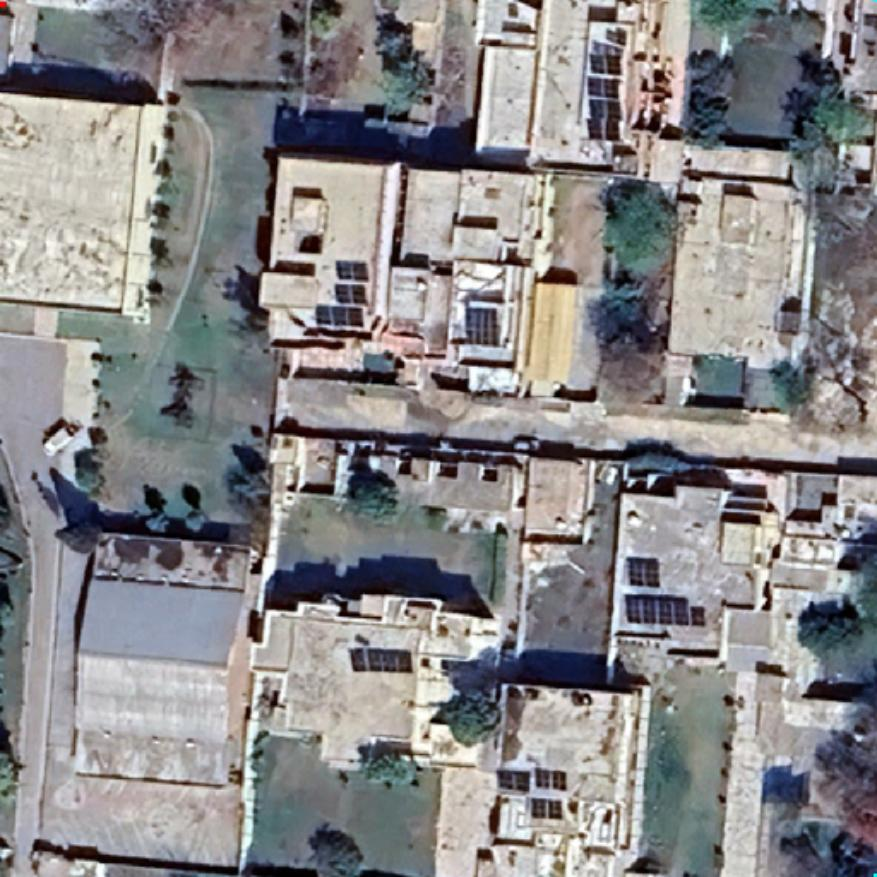Solarpanel: (582, 24, 629, 144), (622, 590, 700, 630), (344, 642, 418, 678), (460, 300, 504, 350), (311, 300, 367, 330), (622, 552, 664, 590), (492, 765, 534, 796), (526, 793, 568, 823), (532, 764, 570, 794), (332, 256, 372, 284), (331, 280, 369, 306)
